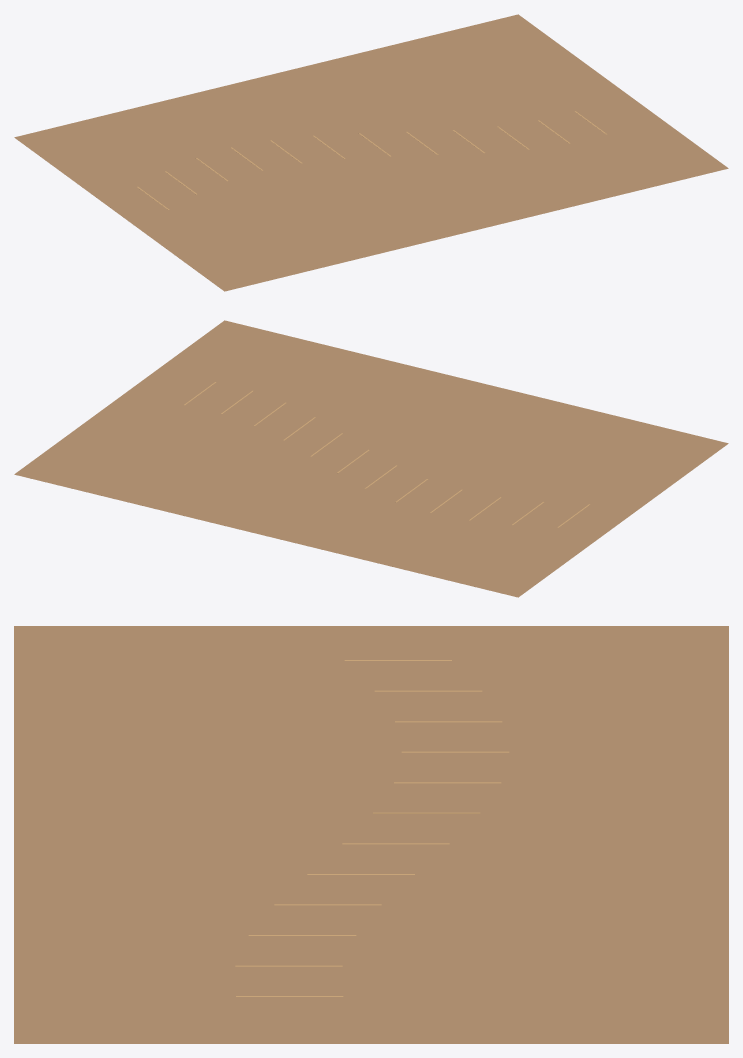
File: 280_L120_L15_LayerReference.glb
3 renders of one model, top to bottom at view 1: azimuth 30°, elevation 25°; view 2: azimuth 150°, elevation 25°; view 3: azimuth 270°, elevation 25°, orthographic. The views are drawn at different scales.
Parts seen in each view (by area): view 1: 0000__PSMAT__copper_dark; view 2: 0000__PSMAT__copper_dark; view 3: 0000__PSMAT__copper_dark.
Part boxes in pixels (left/top/right/bottom): 0000__PSMAT__copper_dark: left=14, top=14, right=728, bottom=291; 0000__PSMAT__copper_dark: left=14, top=320, right=728, bottom=597; 0000__PSMAT__copper_dark: left=14, top=626, right=728, bottom=1043.
Size of the model in its own units: 0.506 by 0.00013 by 0.366.
